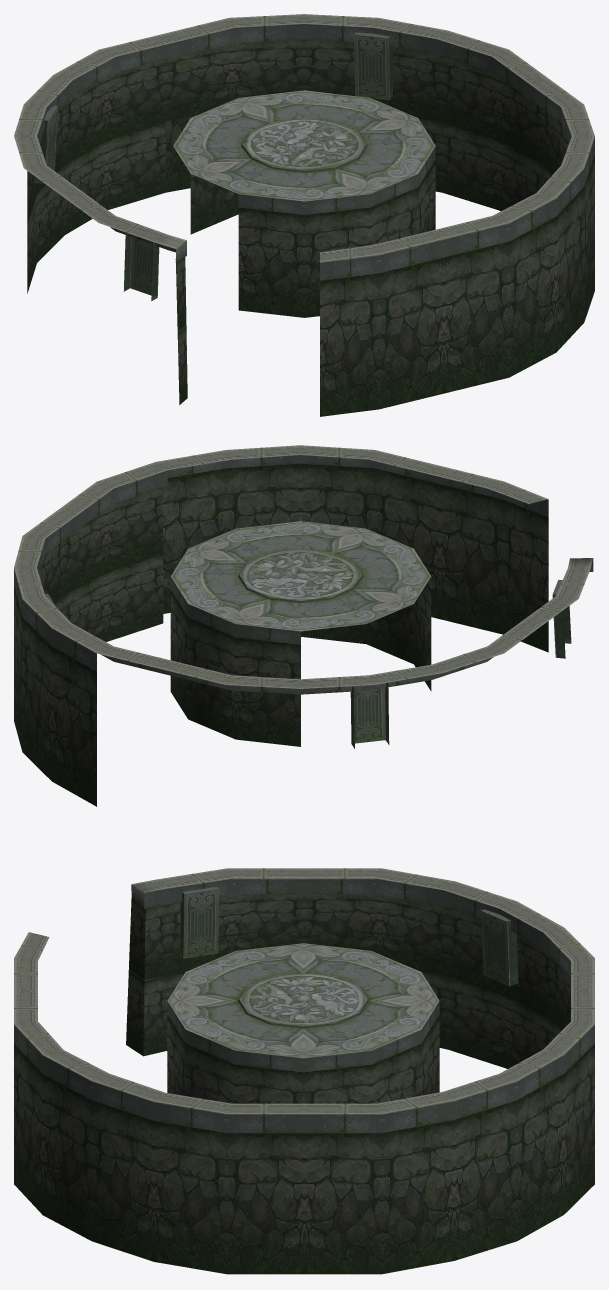
File: zc_suzhou_zhongxinjianzhu.FBX
3 renders of one model, top to bottom at view 1: azimuth 30°, elevation 25°; view 2: azimuth 150°, elevation 25°; view 3: azimuth 270°, elevation 25°, orthographic. The views are drawn at different scales.
Parts seen in each view (by area): view 1: zc_suzhou_zhongxinjianzhu; view 2: zc_suzhou_zhongxinjianzhu; view 3: zc_suzhou_zhongxinjianzhu.
Part boxes in pixels (left/top/right/bottom): zc_suzhou_zhongxinjianzhu: left=14, top=14, right=594, bottom=416; zc_suzhou_zhongxinjianzhu: left=14, top=445, right=593, bottom=806; zc_suzhou_zhongxinjianzhu: left=14, top=868, right=594, bottom=1274.
Bounding box in the file's own units: 1433 × 444 × 1433.
